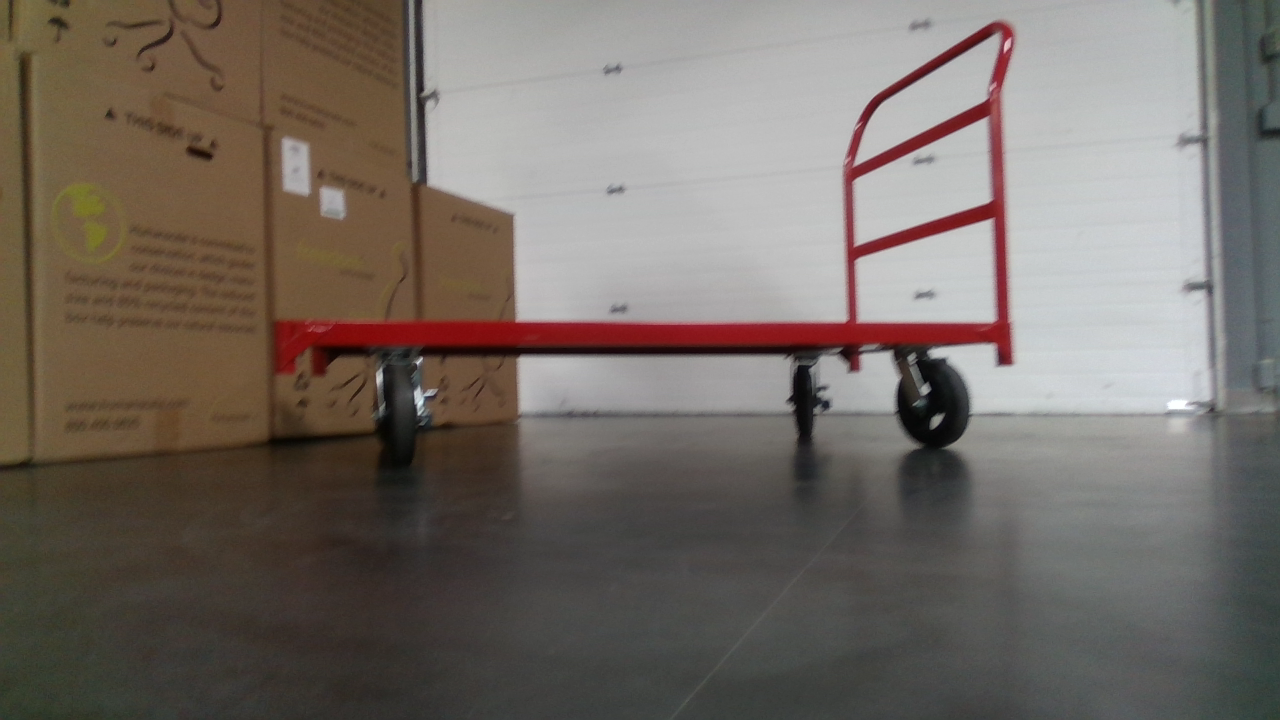Dolly: (265, 15, 1022, 471)
Wheel: (368, 354, 437, 468), (893, 356, 973, 451), (783, 357, 833, 445)
